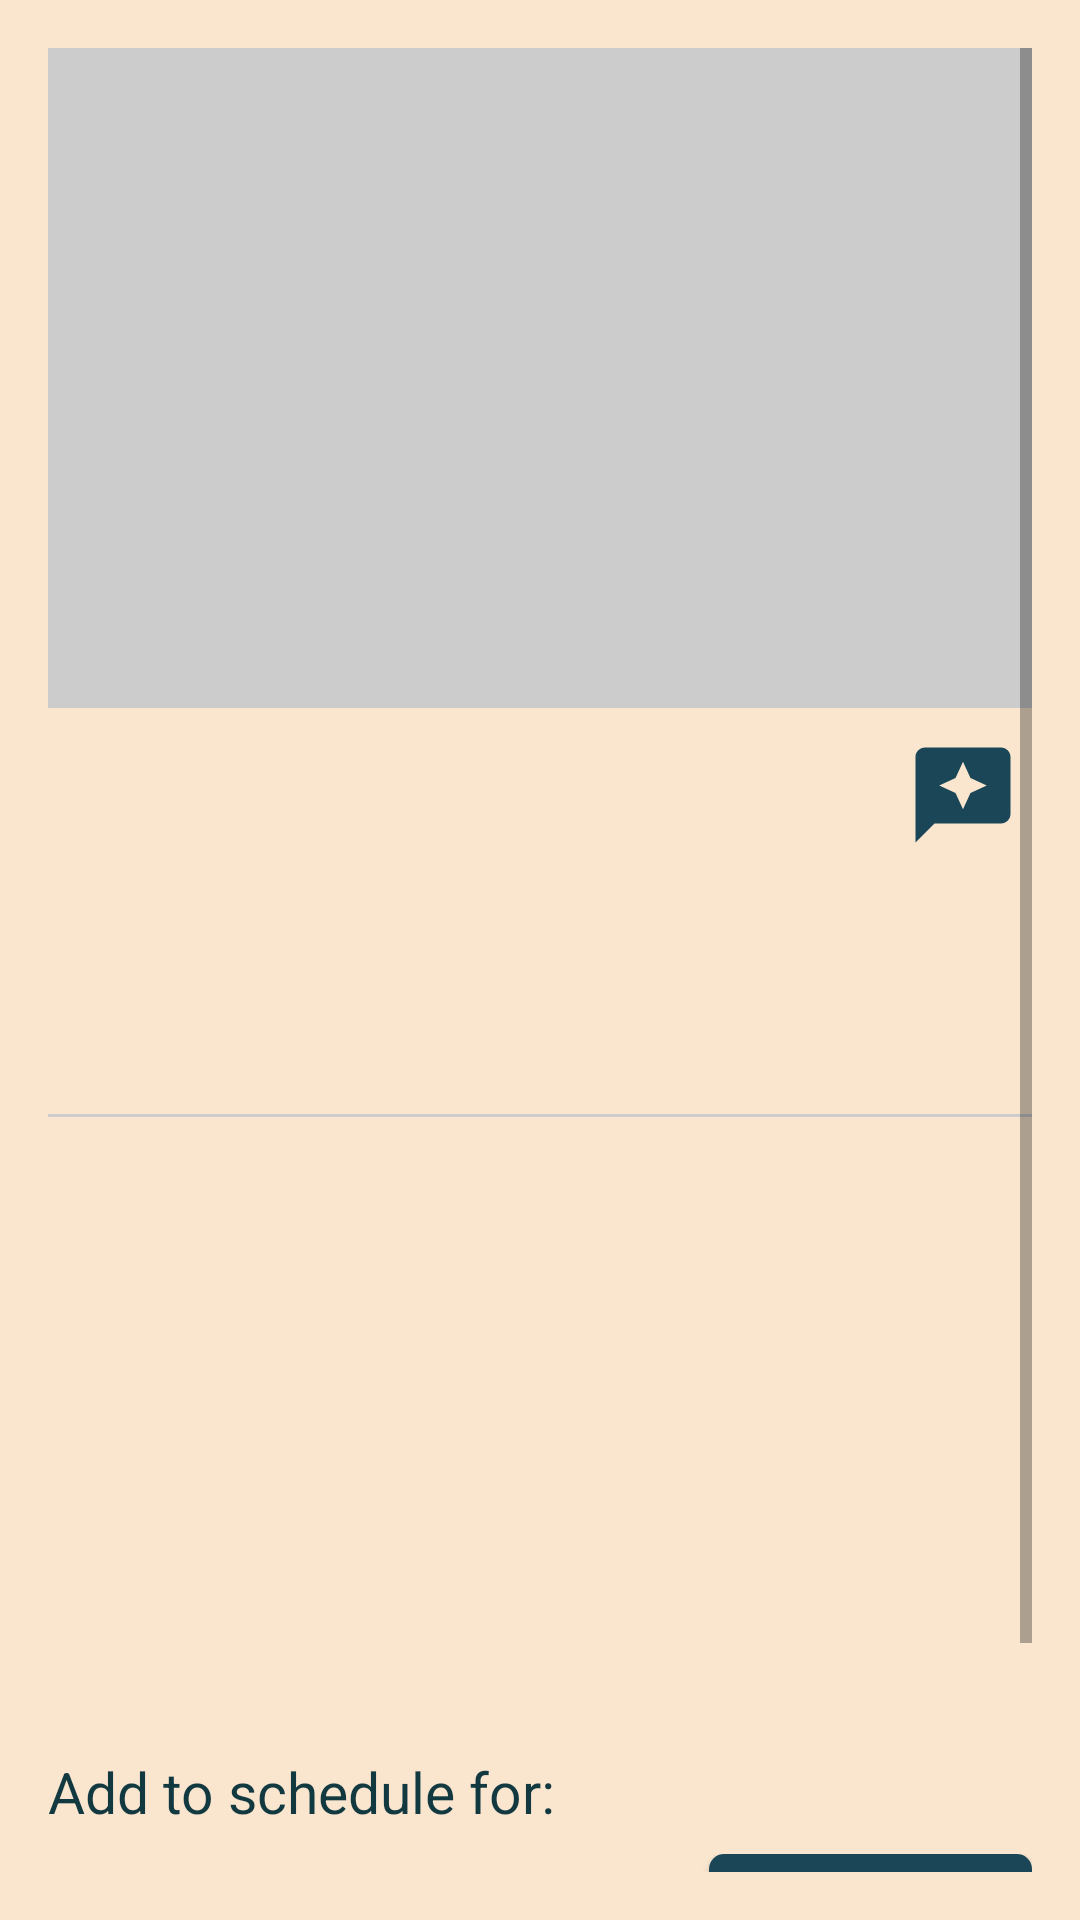

Where to tap for icons on this 1080px x 1920px app screen, as (x=x, y=y):
Reviews: (x=963, y=795)
